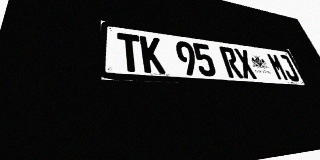5: (192, 43, 218, 77)
9: (174, 40, 200, 76)
J: (277, 54, 301, 82)
K: (140, 35, 166, 74)
M: (266, 52, 290, 81)
R: (219, 46, 244, 78)
T: (117, 32, 143, 72)
X: (233, 48, 258, 79)
